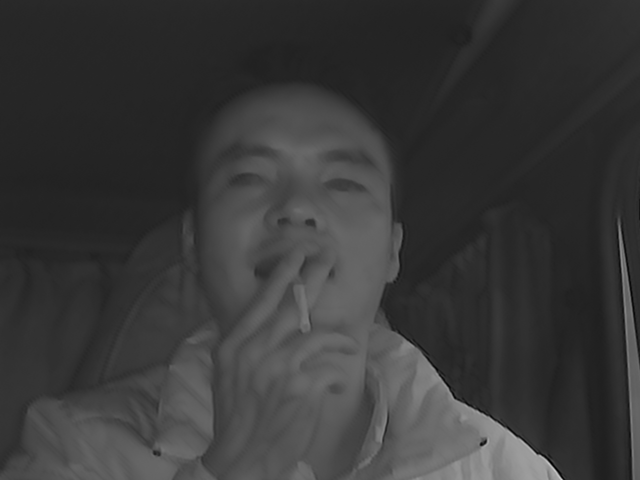hand: (217, 245, 356, 406)
